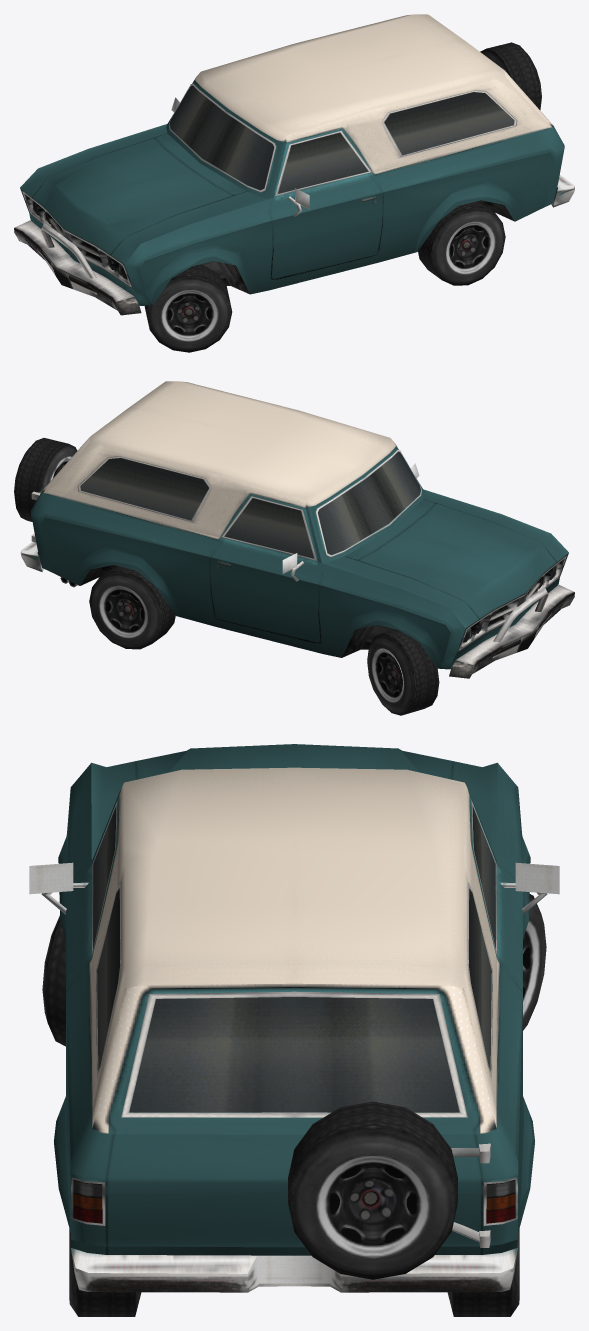
The model's file is car.glb.
The picture shows the model from 3 angles, top to bottom: view 1: azimuth 30°, elevation 25°; view 2: azimuth 150°, elevation 25°; view 3: azimuth 270°, elevation 25°; orthographic projection. The views are drawn at different scales.
Visible parts, largest first — view 1: body_trf_suv_old_1_0, Object002_UCB_Glass_256_0, Object010_Sport454_0, Object008_Sport454_0, Object004_trf_suv_old_1_0, Object007_Sport454_0, Object011_gt1_Bottom_0, Object003_trf_suv_old_1_0; view 2: body_trf_suv_old_1_0, Object002_UCB_Glass_256_0, Object009_Sport454_0, Sport454_Sport454_0, Object004_trf_suv_old_1_0, Object007_Sport454_0, Object011_gt1_Bottom_0, Object003_trf_suv_old_1_0; view 3: body_trf_suv_old_1_0, Object002_UCB_Glass_256_0, Object007_Sport454_0, Object003_trf_suv_old_1_0, Object001_gt1_headlights_3_0, Object010_Sport454_0, Sport454_Sport454_0, Object008_Sport454_0, Object009_Sport454_0, Object006_trf_suv_old_1_0.
Boxes of the visible parts, x1,y1,x2,y2 form: body_trf_suv_old_1_0: [20, 14, 564, 305]; Object002_UCB_Glass_256_0: [170, 85, 514, 193]; Object010_Sport454_0: [144, 264, 232, 352]; Object008_Sport454_0: [418, 201, 505, 285]; Object004_trf_suv_old_1_0: [14, 220, 141, 315]; Object007_Sport454_0: [480, 42, 541, 109]; Object011_gt1_Bottom_0: [201, 200, 514, 294]; Object003_trf_suv_old_1_0: [551, 175, 574, 207]; body_trf_suv_old_1_0: [31, 381, 568, 669]; Object002_UCB_Glass_256_0: [80, 451, 420, 558]; Object009_Sport454_0: [89, 565, 175, 649]; Sport454_Sport454_0: [367, 629, 439, 715]; Object004_trf_suv_old_1_0: [449, 585, 574, 678]; Object007_Sport454_0: [14, 438, 77, 521]; Object011_gt1_Bottom_0: [80, 565, 394, 657]; Object003_trf_suv_old_1_0: [20, 542, 43, 571]; body_trf_suv_old_1_0: [29, 744, 559, 1255]; Object002_UCB_Glass_256_0: [93, 807, 495, 1112]; Object007_Sport454_0: [288, 1101, 457, 1279]; Object003_trf_suv_old_1_0: [71, 1248, 517, 1292]; Object001_gt1_headlights_3_0: [73, 1179, 515, 1223]; Object010_Sport454_0: [42, 915, 65, 1046]; Sport454_Sport454_0: [523, 894, 546, 1030]; Object008_Sport454_0: [69, 1229, 141, 1316]; Object009_Sport454_0: [447, 1229, 519, 1316]; Object006_trf_suv_old_1_0: [451, 1143, 490, 1247].
Bounding box in the file's own units: 4.55 × 1.73 × 2.17.
Materials: 7 (7 with a texture image).
